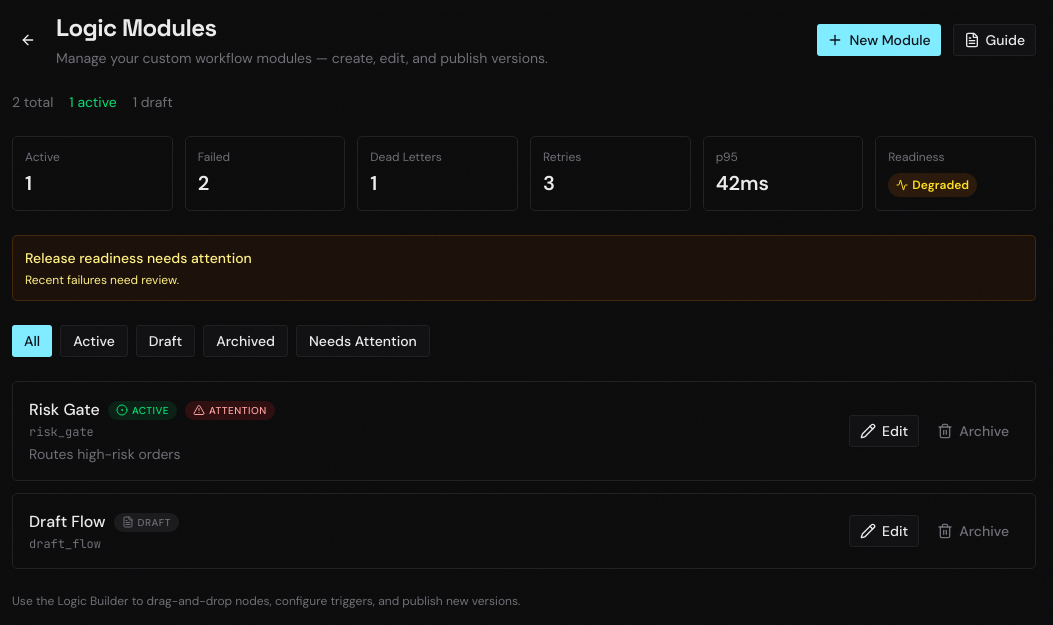
Test: LogicModulesListPage › filters to modules that need attention
Expected: the text "Draft Flow" is shown, [29, 510, 106, 534]
Click the button "Needs attention" at (363, 341), box [296, 325, 430, 357]
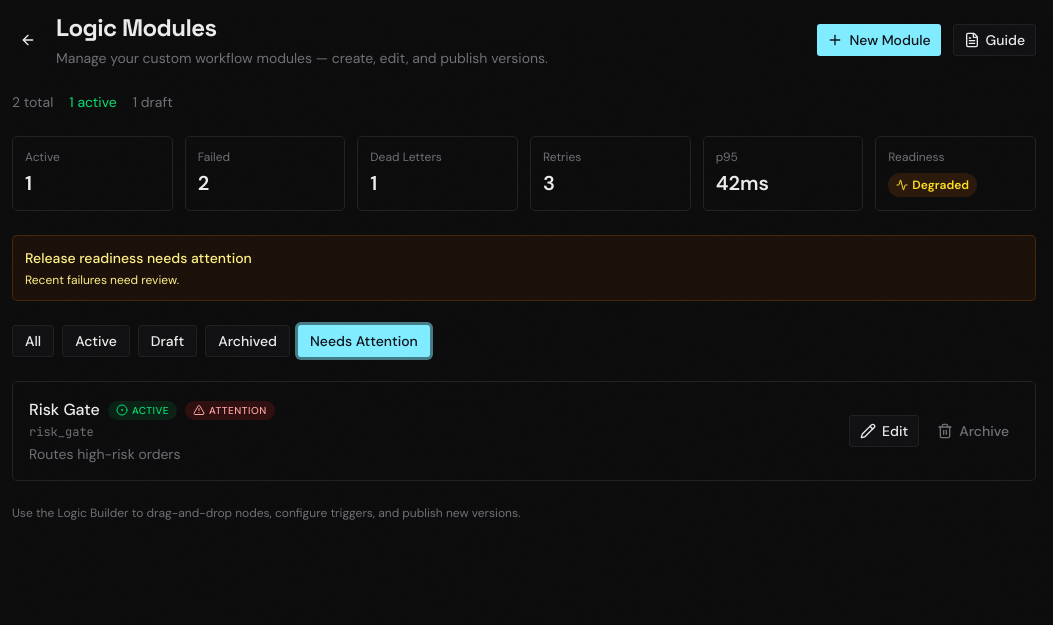
Expected: the text "Risk Gate" is shown, [29, 398, 100, 422]
Now the text "Draft Flow" is gone
